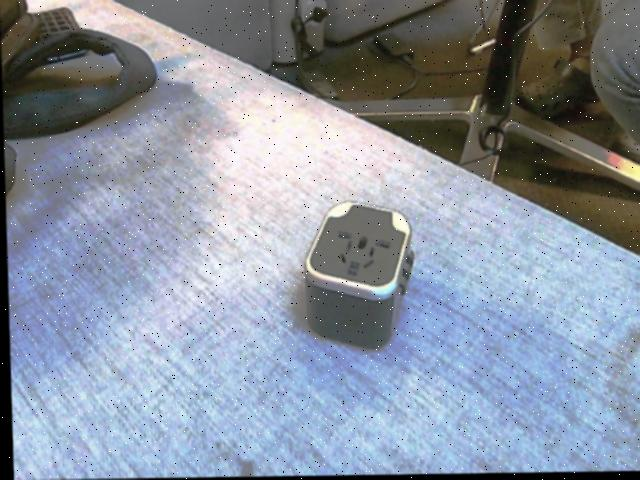adapter: (298, 201, 415, 351)
